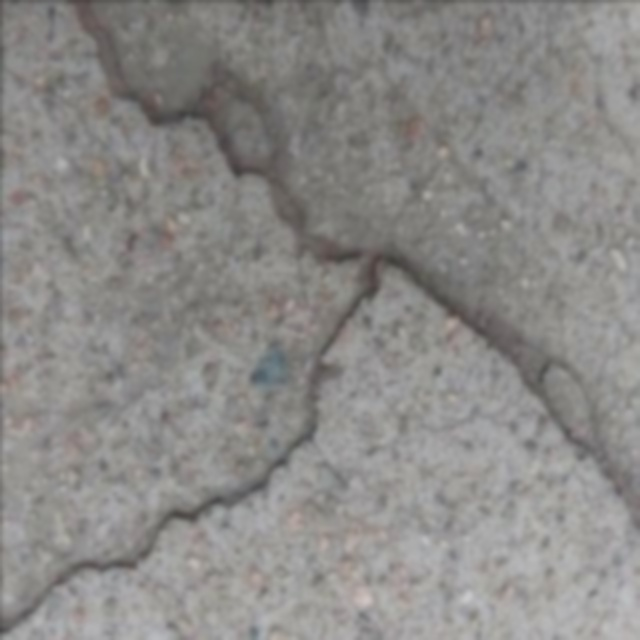SurfaceCrack: (6, 8, 634, 640)
